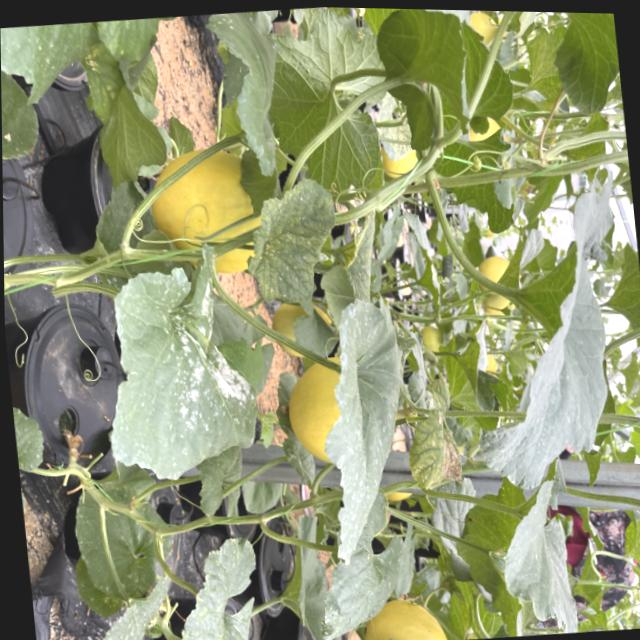alternaria leaf blight: (398, 383, 483, 505)
downy mildew: (307, 294, 415, 513), (238, 172, 343, 309), (0, 18, 101, 113), (10, 387, 53, 535), (611, 473, 640, 629)
healthy: (450, 228, 618, 500), (267, 6, 396, 200), (490, 470, 579, 639), (211, 8, 285, 172), (538, 12, 622, 107), (93, 86, 172, 186)
powdery mildew: (93, 243, 264, 477), (316, 492, 406, 640), (148, 530, 263, 640), (0, 25, 35, 173)
